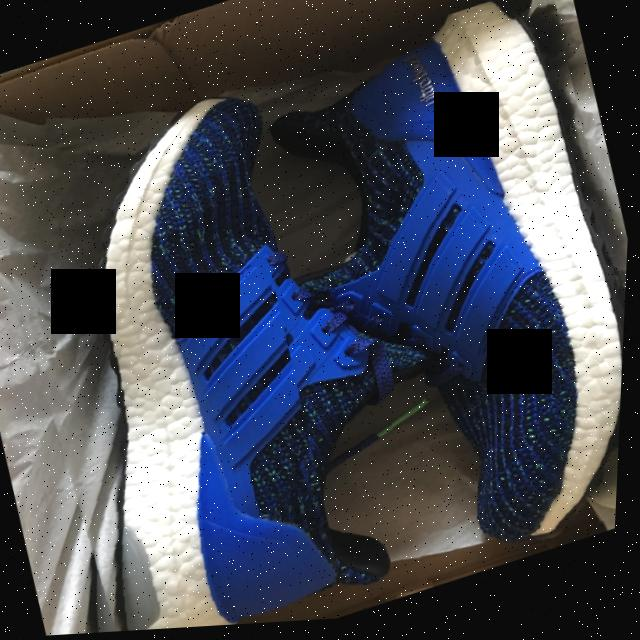shoe: (0, 44, 500, 640), (211, 0, 640, 622)
